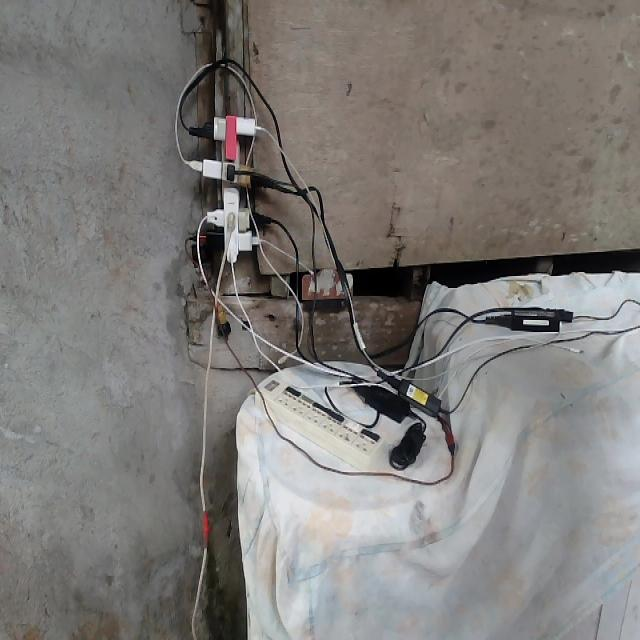-: (175, 109, 285, 283)
